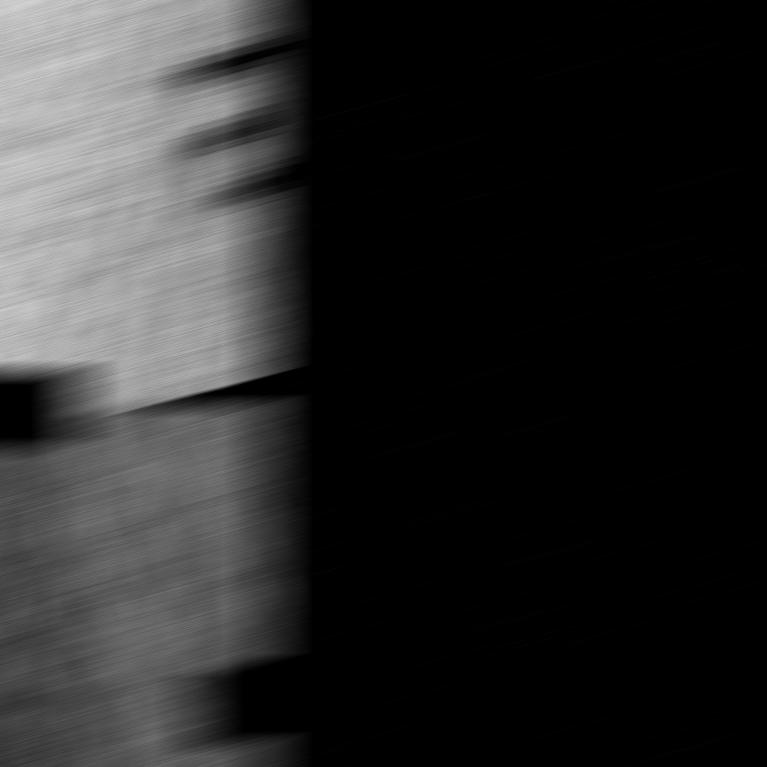Airbag: (0, 3, 279, 403), (0, 409, 279, 764)
